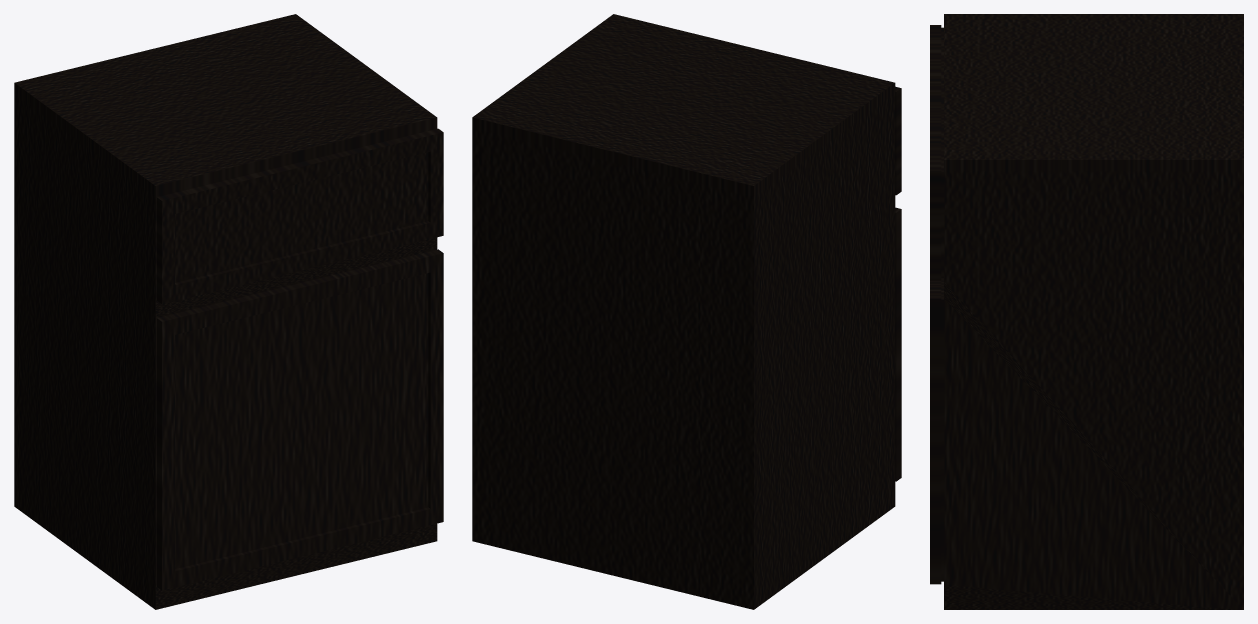
File: kitchencabinet.fbx
3 views of the same model, side by side, from view 1: azimuth 30°, elevation 25°; view 2: azimuth 150°, elevation 25°; view 3: azimuth 270°, elevation 25° (orthographic). The views are drawn at different scales.
Visible parts, largest first — view 1: Cube; view 2: Cube; view 3: Cube.
Part boxes in pixels (left/top/right/bottom): Cube: left=14, top=14, right=443, bottom=609; Cube: left=472, top=14, right=901, bottom=609; Cube: left=930, top=14, right=1243, bottom=609.
Bounding box in the file's own units: 230 × 331 × 209.
